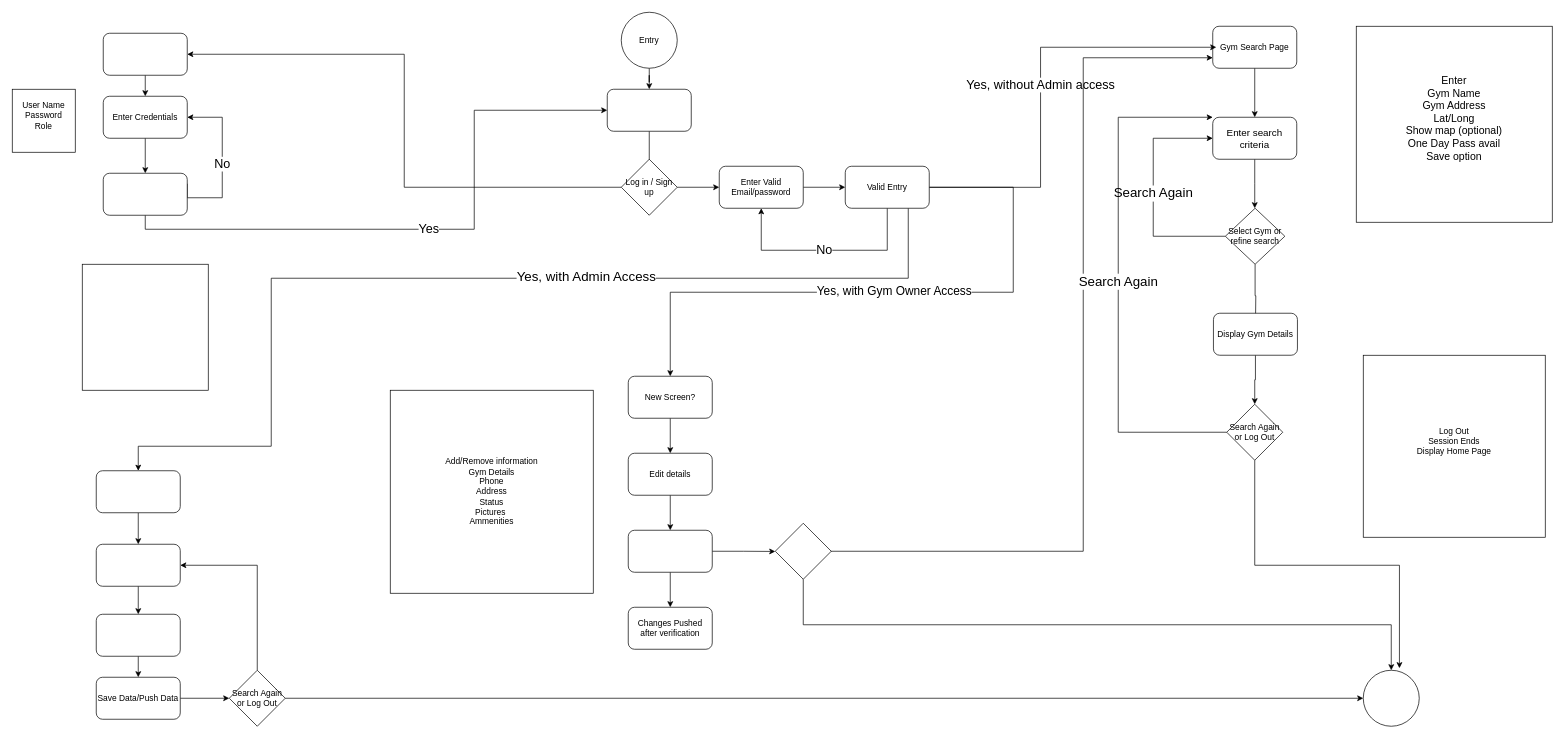
Image size: 1565x739. Some labels were removed from this diagram. The centre of each missing label's shape, as x and y in pixels:
"Changes Saved" belongs at pixel 670 551.
"Close" belongs at pixel 1391 698.
"Display/Edit Data" belongs at pixel 138 635.
"Exit or Search" belongs at pixel 803 551.
"Home Page" belongs at pixel 649 110.
"New Screen/Dashboard" belongs at pixel 138 491.
"Registration has guest level access pending verification of gym owner rights." belongs at pixel 145 327.
"Select Data to view" belongs at pixel 138 565.
"Sign Up Page" belongs at pixel 145 54.
"Valid Credentials" belongs at pixel 145 194.
